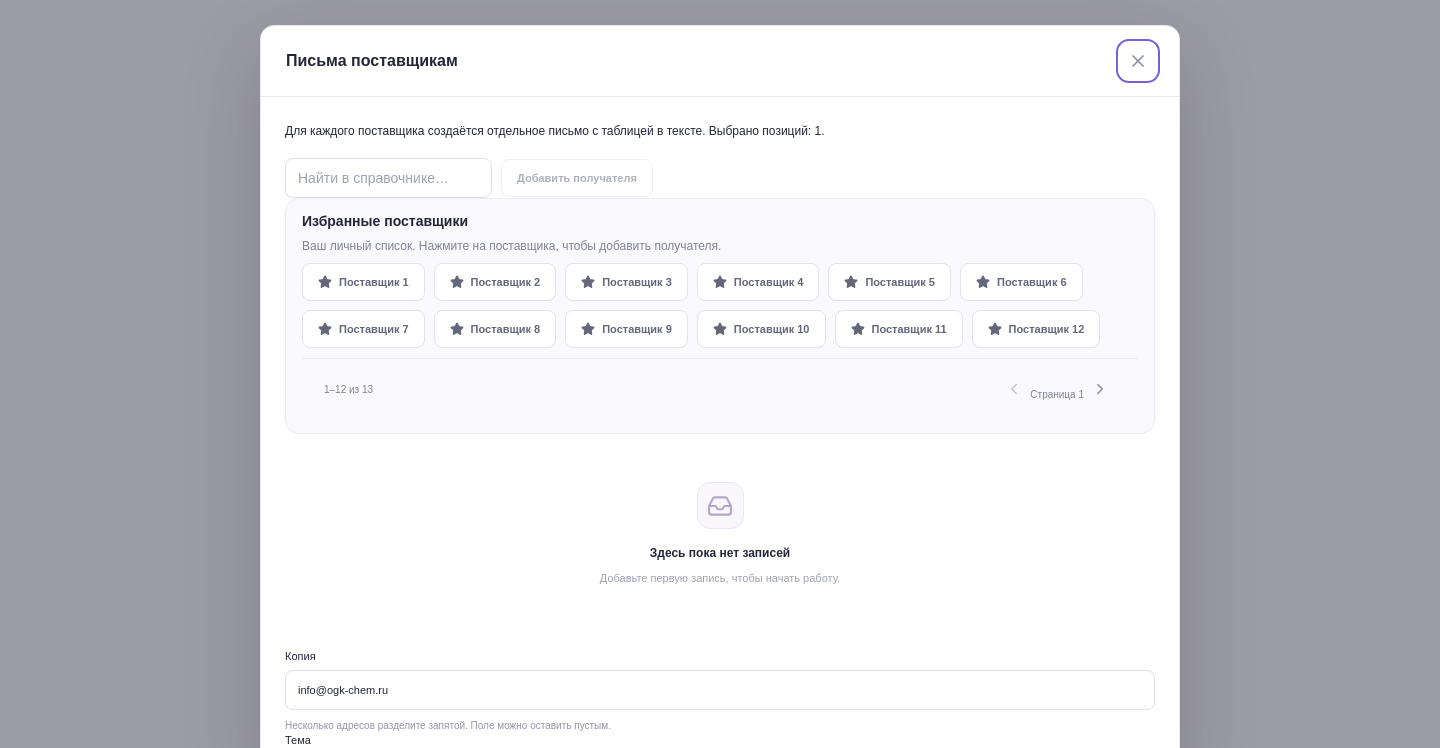
Scenario: provides all favorite suppliers through pagination instead of silently truncating the list
Expected: the button "Поставщик 12" is shown, [972,310,1100,348]
Click the button named "Следующая страница": [1100, 389] box [1084,373,1116,405]
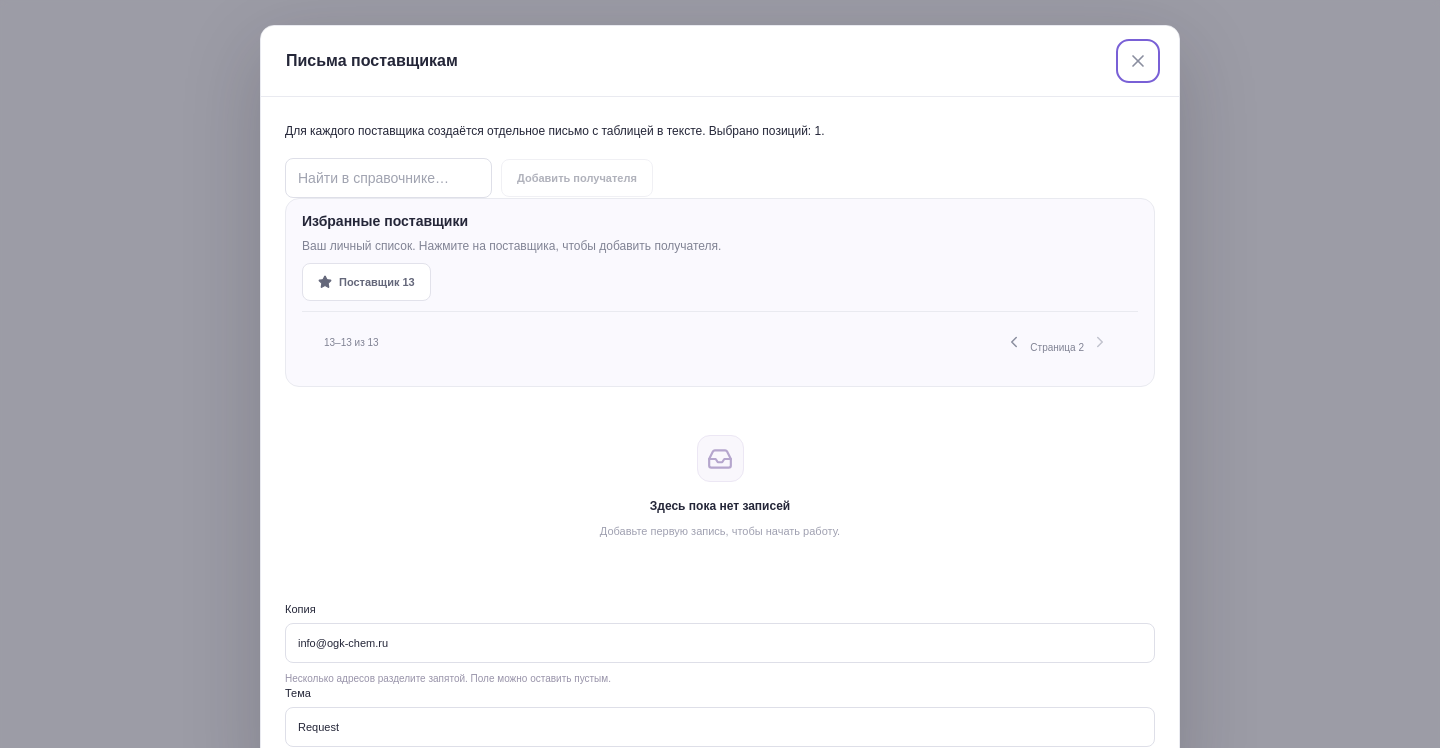
Expected: the button "Поставщик 13" is shown, [302,263,431,301]
